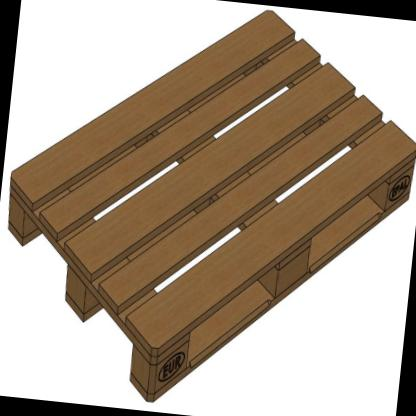BoxFace: (6, 11, 416, 405)
